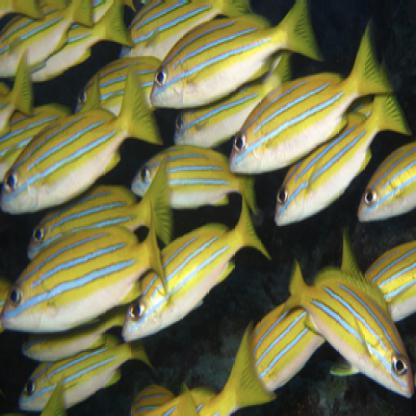snapper: (229, 20, 395, 176), (1, 63, 165, 218), (121, 188, 268, 355), (4, 198, 177, 332), (272, 249, 415, 401), (147, 4, 329, 110)
